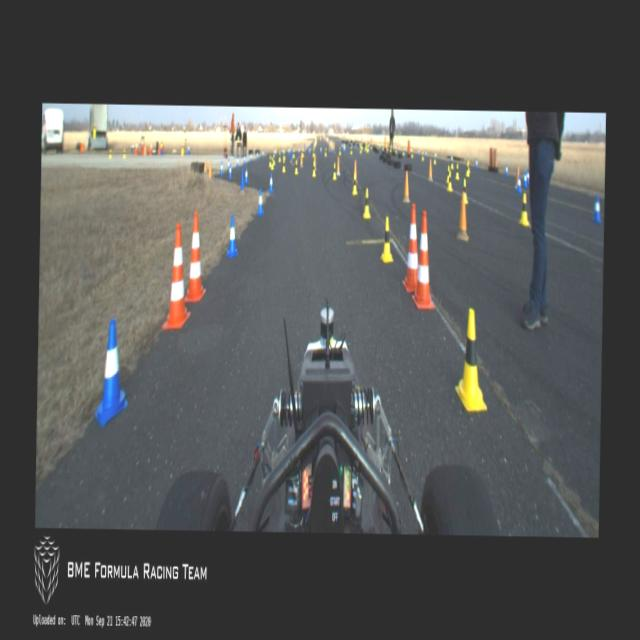blue_cone: (95, 320, 129, 427), (225, 214, 238, 257), (590, 194, 602, 222), (256, 187, 264, 214), (268, 172, 274, 192), (516, 174, 522, 193), (218, 160, 224, 177), (227, 163, 232, 179), (244, 165, 248, 184), (522, 171, 526, 188), (526, 168, 530, 185), (504, 163, 508, 177), (236, 155, 238, 168), (227, 158, 229, 171)
large_orange_cone: (162, 223, 191, 329), (411, 211, 436, 310), (184, 211, 208, 305), (402, 204, 421, 292)
unknown_cone: (456, 191, 470, 241), (402, 170, 411, 204), (427, 158, 432, 181)
yellow_cone: (454, 309, 488, 411), (381, 216, 394, 262), (518, 192, 529, 225), (362, 188, 370, 217), (461, 176, 469, 204), (352, 172, 358, 195), (447, 170, 452, 190), (455, 163, 460, 180), (445, 165, 449, 184), (332, 163, 336, 178), (312, 162, 316, 176), (281, 158, 285, 170), (294, 160, 298, 172), (270, 156, 273, 169), (278, 150, 281, 161), (338, 147, 341, 156), (292, 149, 294, 158), (302, 149, 304, 158), (312, 148, 314, 157), (324, 147, 326, 156)
